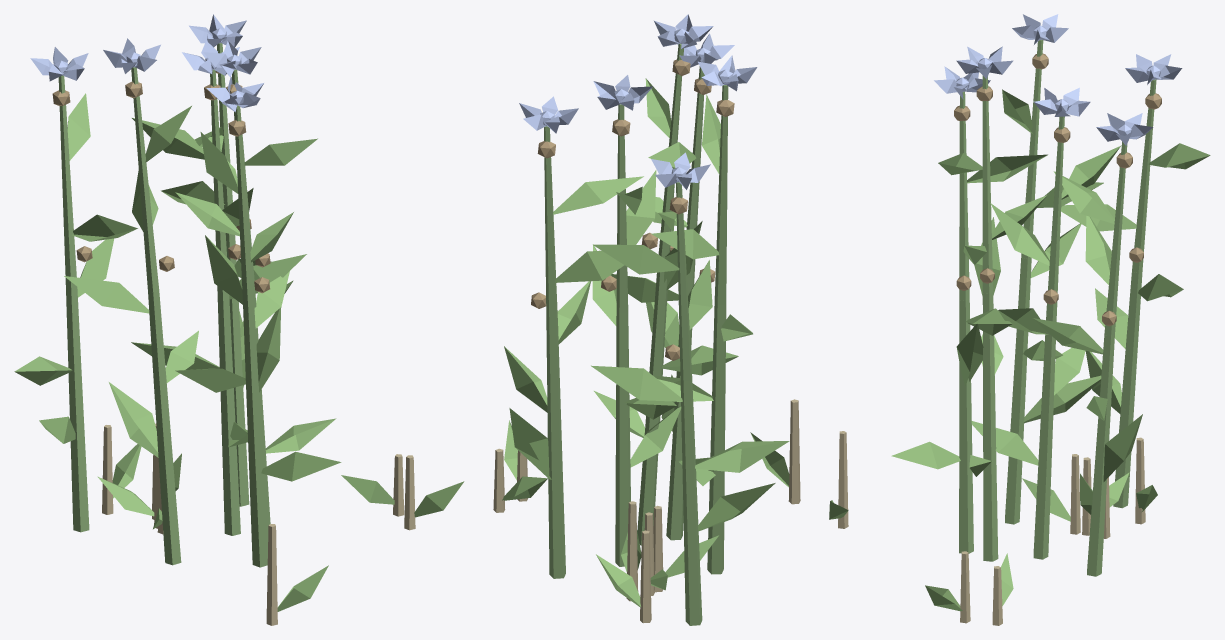
File: plant-flax-b.glb
3 views of the same model, side by side, from view 1: azimuth 30°, elevation 25°; view 2: azimuth 150°, elevation 25°; view 3: azimuth 270°, elevation 25° (orthographic). The views are drawn at different scales.
Visible parts, largest first — view 1: plant-flax-b_full_leafB, plant-flax-b_full_stemGreen, plant-flax-b_fruit_flaxFlower, plant-flax-b_low_leafB, plant-flax-b_low_stemDry, plant-flax-b_fruit_podBrown; view 2: plant-flax-b_full_stemGreen, plant-flax-b_full_leafB, plant-flax-b_fruit_flaxFlower, plant-flax-b_low_stemDry, plant-flax-b_low_leafB, plant-flax-b_fruit_podBrown; view 3: plant-flax-b_full_stemGreen, plant-flax-b_full_leafB, plant-flax-b_fruit_flaxFlower, plant-flax-b_low_stemDry, plant-flax-b_low_leafB, plant-flax-b_fruit_podBrown.
Boxes of the visible parts, x1,y1,x2,y2 form: plant-flax-b_full_leafB: [14, 93, 341, 481]; plant-flax-b_full_stemGreen: [58, 43, 270, 567]; plant-flax-b_fruit_flaxFlower: [30, 14, 263, 112]; plant-flax-b_low_leafB: [97, 444, 464, 611]; plant-flax-b_low_stemDry: [102, 423, 415, 625]; plant-flax-b_fruit_podBrown: [52, 71, 270, 293]; plant-flax-b_full_stemGreen: [544, 43, 728, 625]; plant-flax-b_full_leafB: [504, 78, 789, 531]; plant-flax-b_fruit_flaxFlower: [519, 14, 757, 189]; plant-flax-b_low_stemDry: [493, 399, 800, 623]; plant-flax-b_low_leafB: [502, 420, 789, 606]; plant-flax-b_fruit_podBrown: [531, 59, 734, 360]; plant-flax-b_full_stemGreen: [959, 40, 1156, 576]; plant-flax-b_full_leafB: [891, 89, 1210, 481]; plant-flax-b_fruit_flaxFlower: [934, 14, 1182, 145]; plant-flax-b_low_stemDry: [838, 431, 1145, 625]; plant-flax-b_low_leafB: [829, 472, 1157, 611]; plant-flax-b_fruit_podBrown: [954, 53, 1161, 326].
Size of the model in its own units: 0.8323 by 1.12 by 0.7914.
